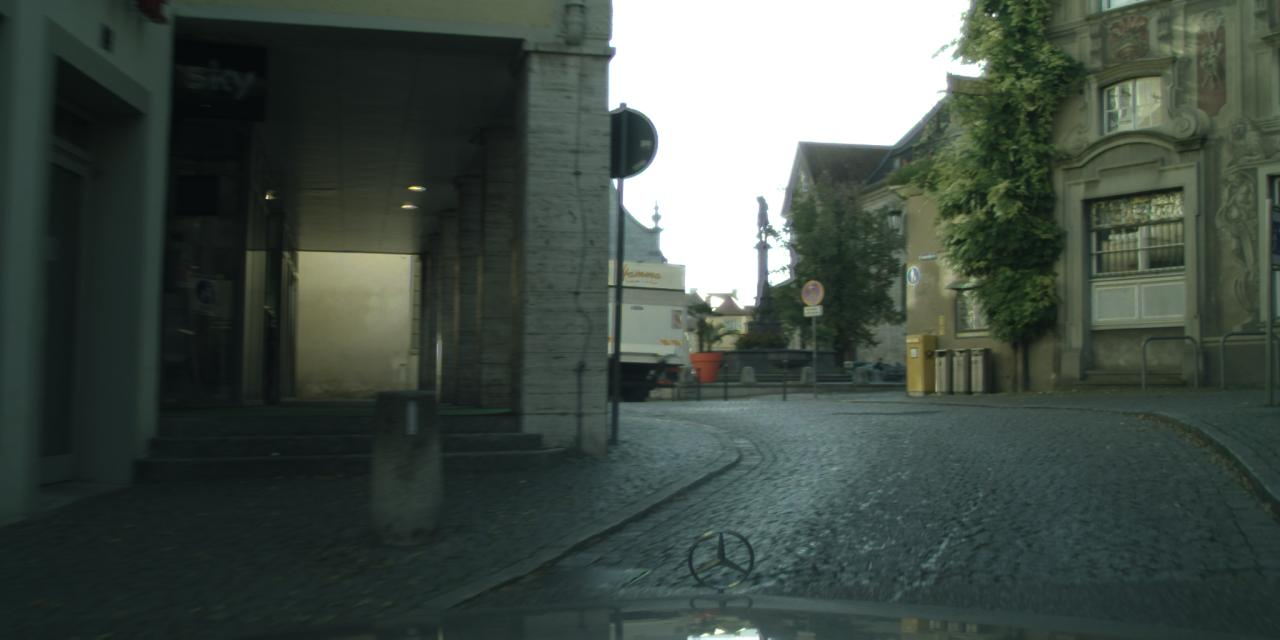ped: (874, 357, 884, 387)
